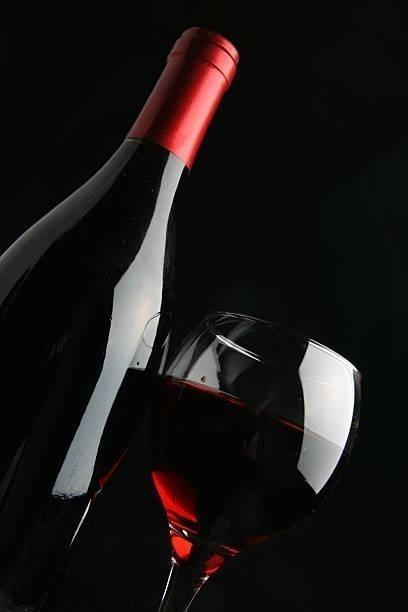bottle-glass: (0, 20, 244, 604)
glass-wine: (136, 302, 365, 612)
